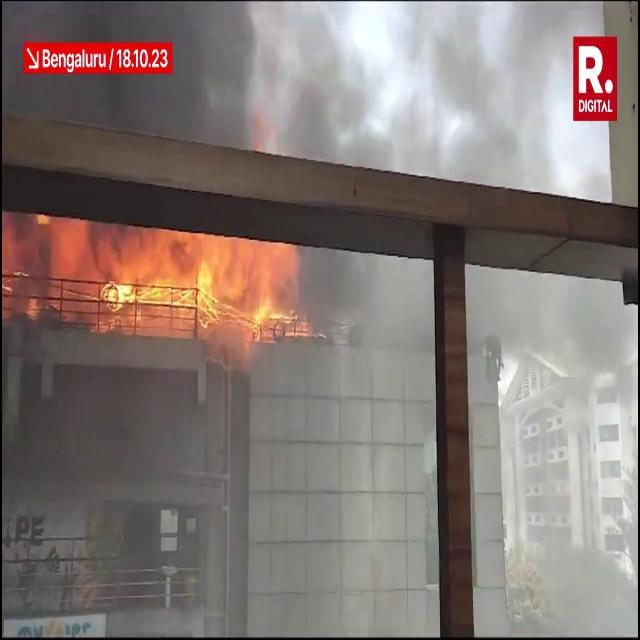Fire: (71, 230, 306, 338)
Smoke: (18, 2, 576, 173)
